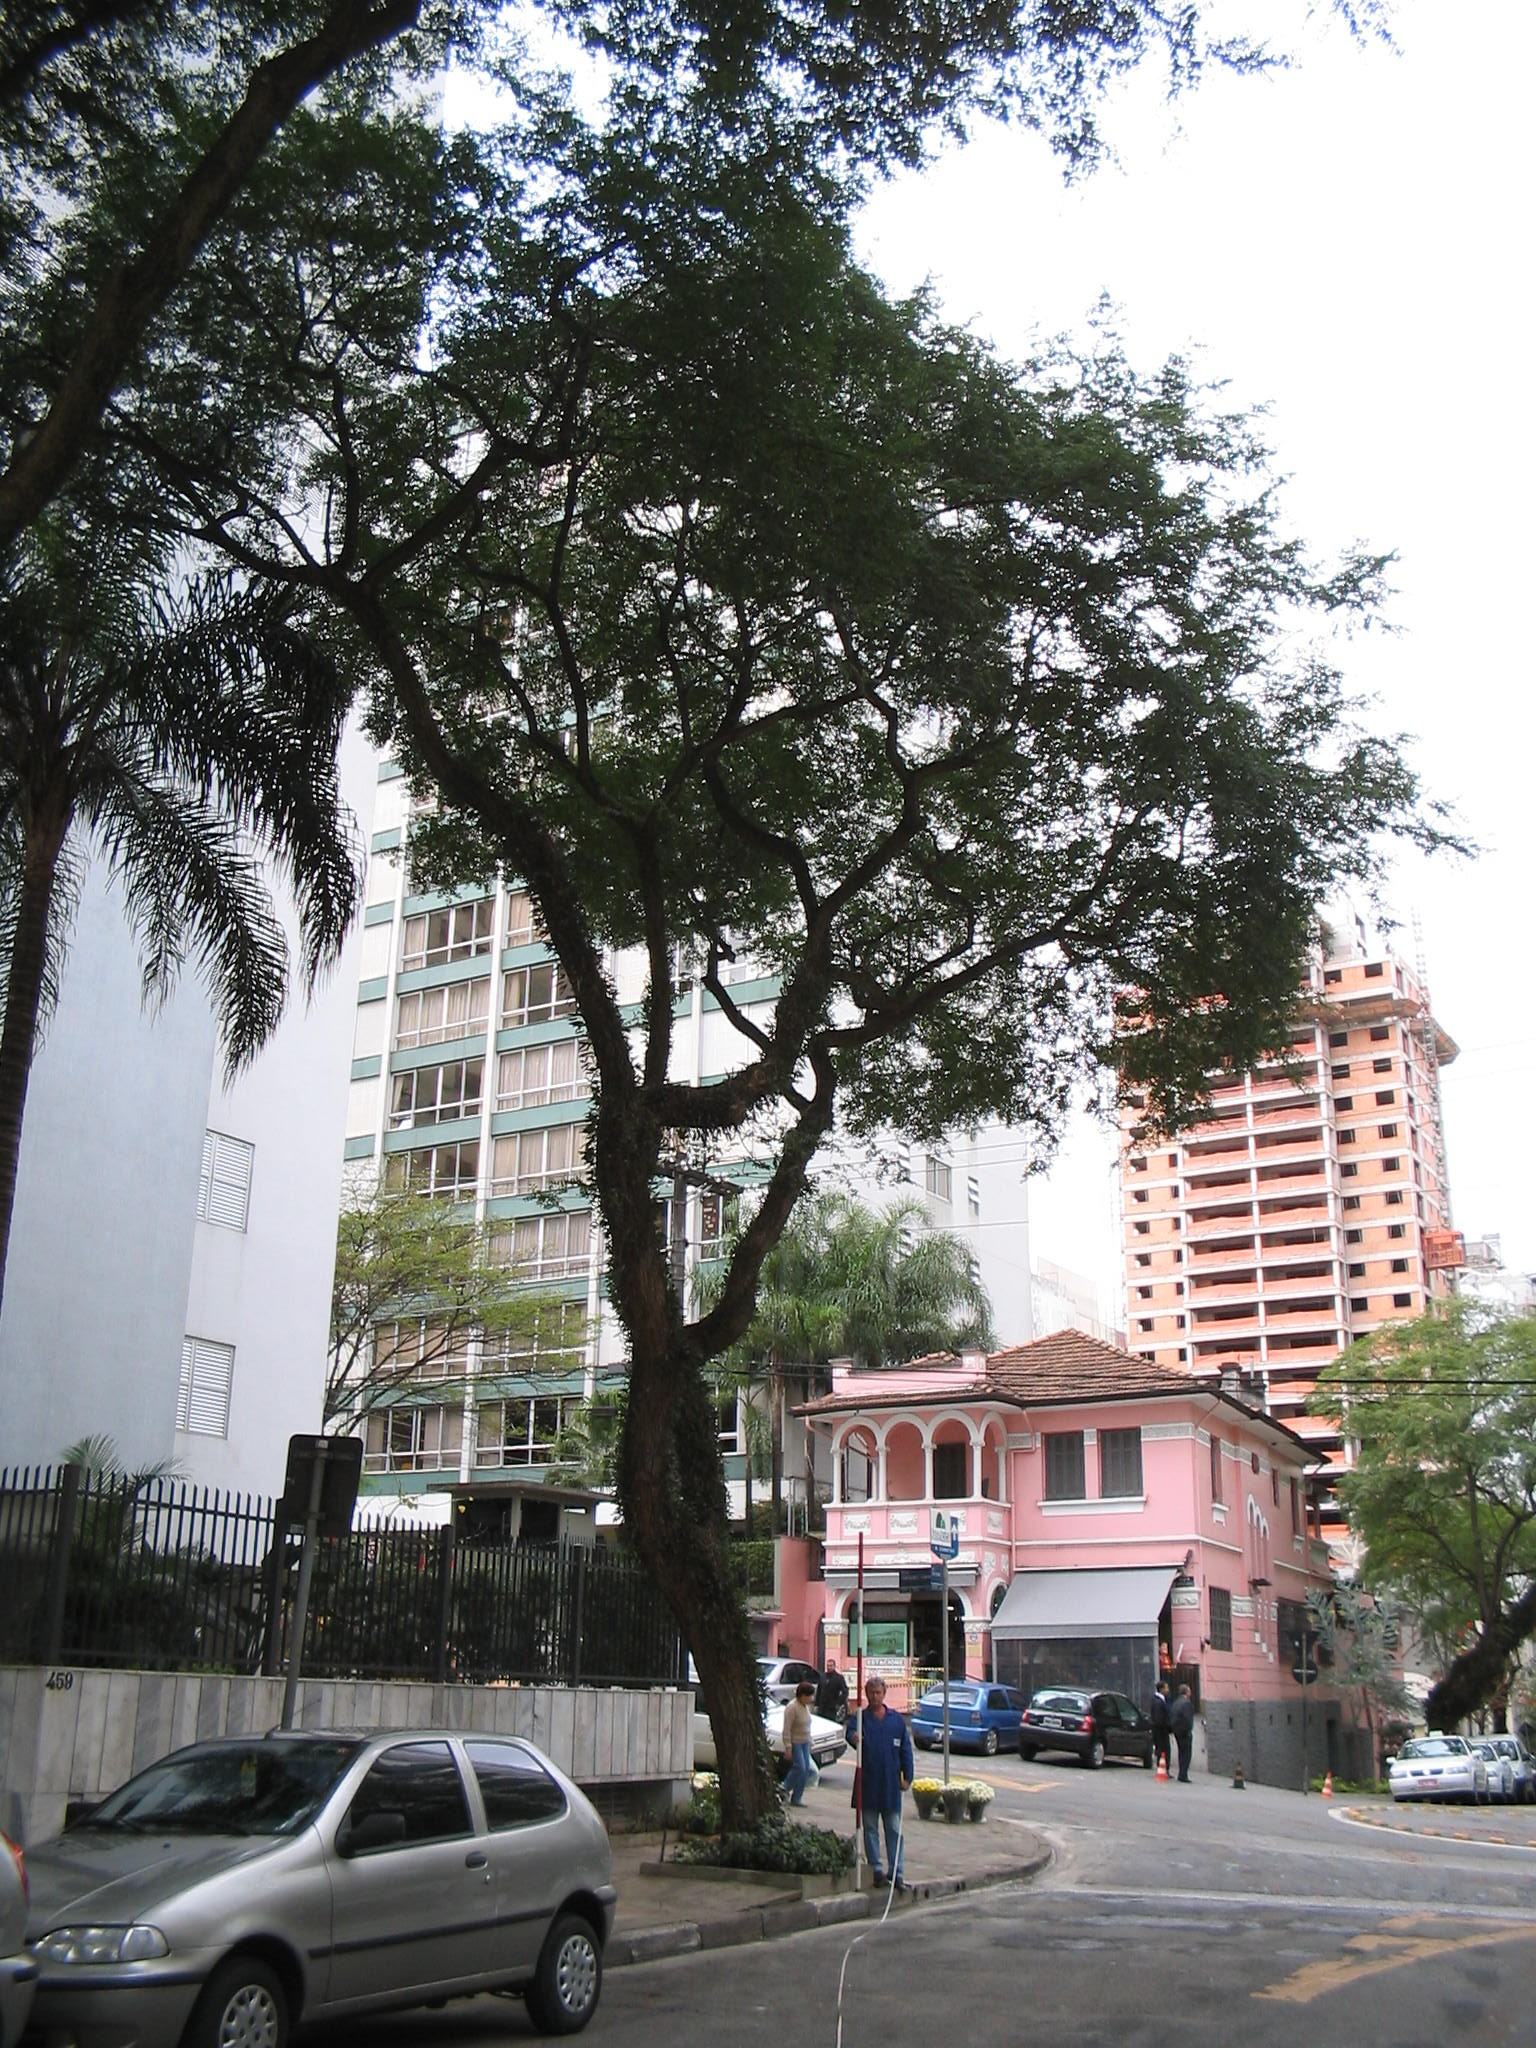crown: (73, 137, 1481, 1184)
stem: (603, 1524, 828, 1861)
stick: (836, 1529, 878, 1892)
tree: (68, 132, 1491, 1867)
